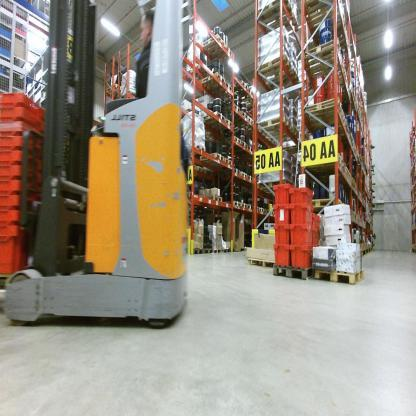pallets: (245, 257, 363, 286), (193, 188, 276, 213), (206, 153, 258, 181), (200, 67, 237, 97), (183, 241, 256, 256), (233, 133, 259, 154), (210, 108, 234, 129), (232, 104, 257, 124)
